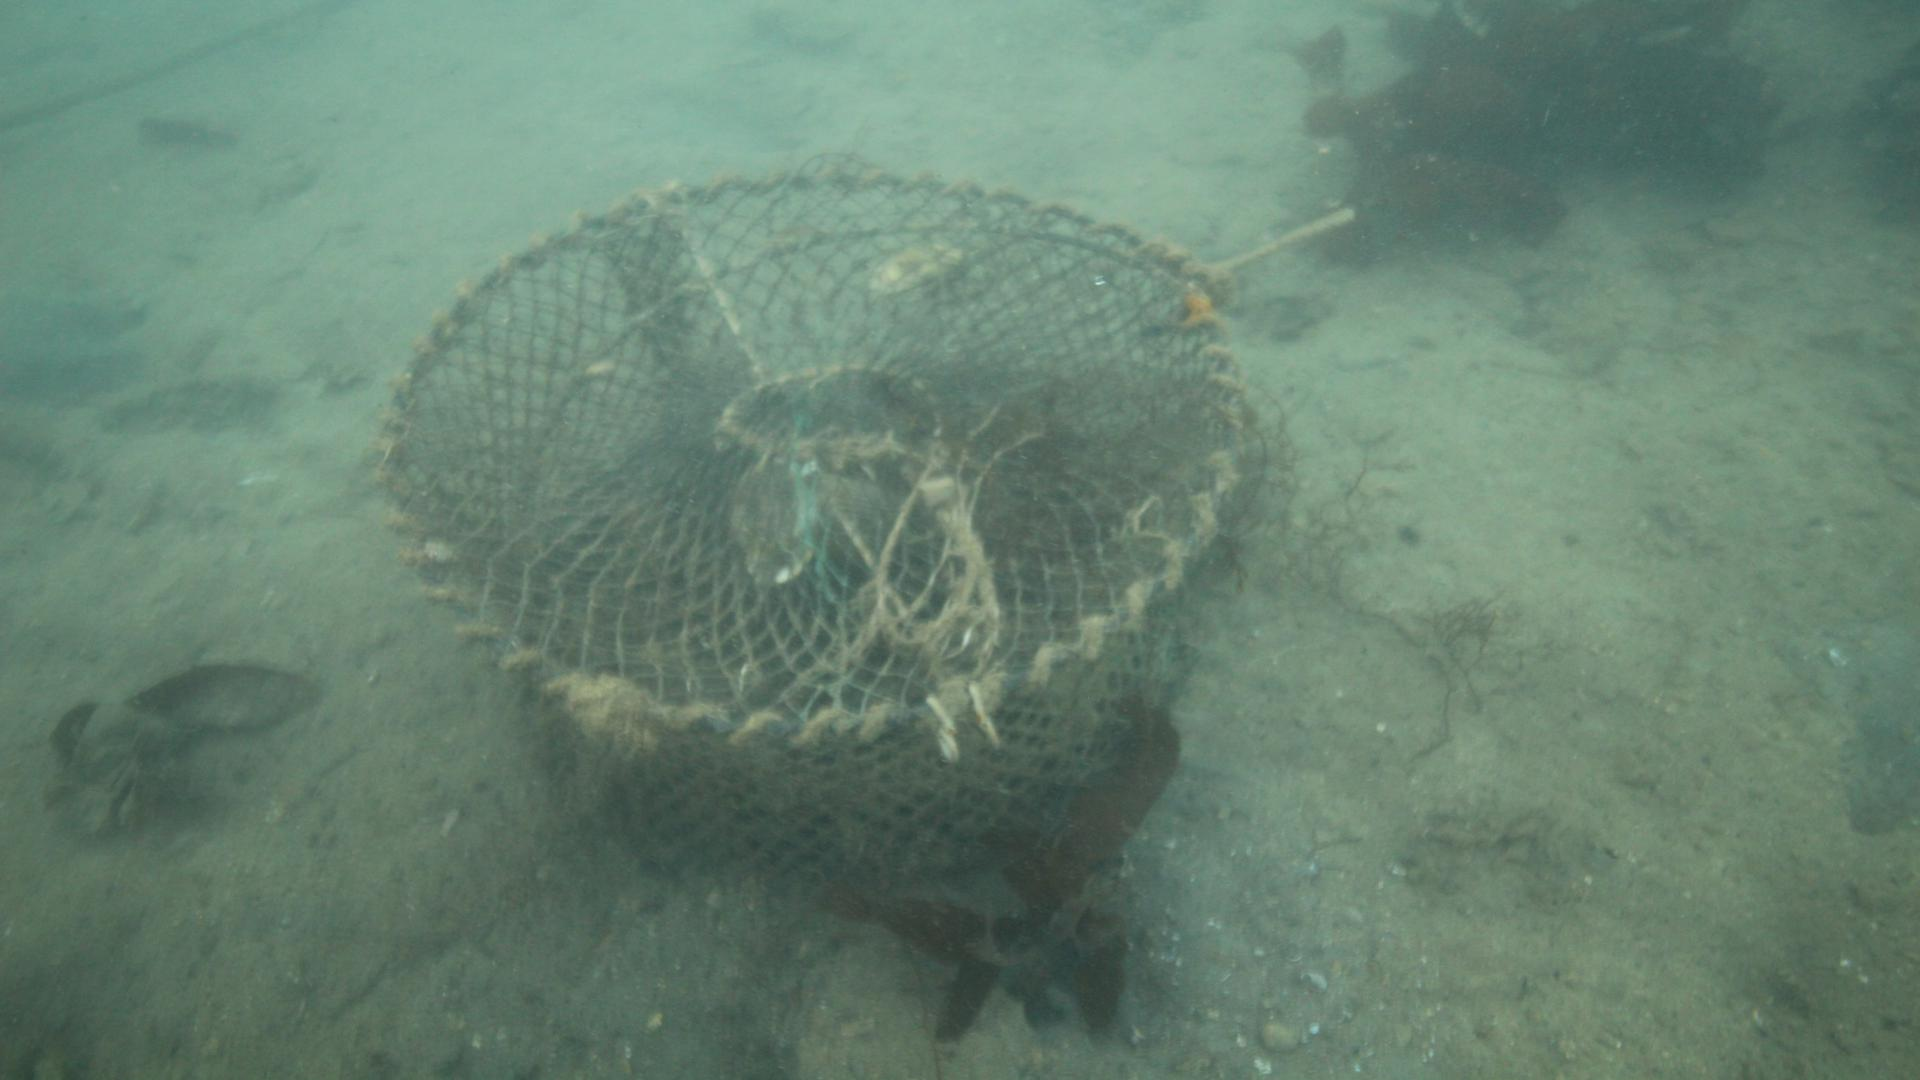circular fish trap: (365, 166, 1245, 889)
rope: (1211, 206, 1357, 272)
